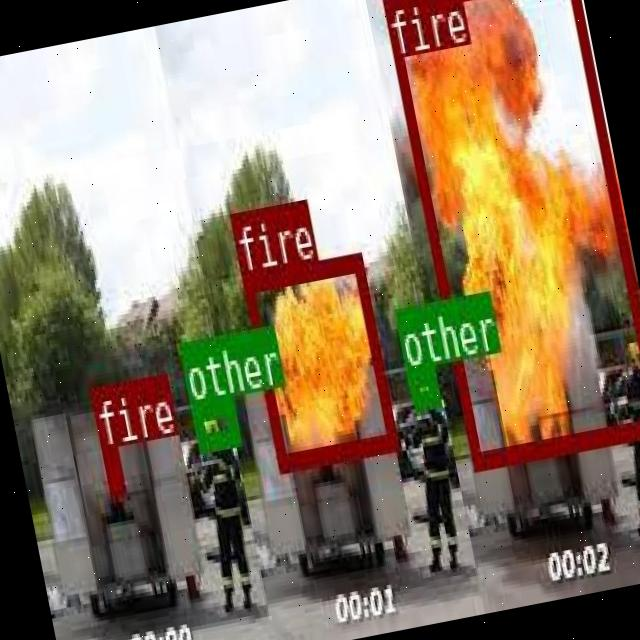fire: (381, 0, 640, 466), (239, 252, 396, 468), (100, 444, 124, 496)
